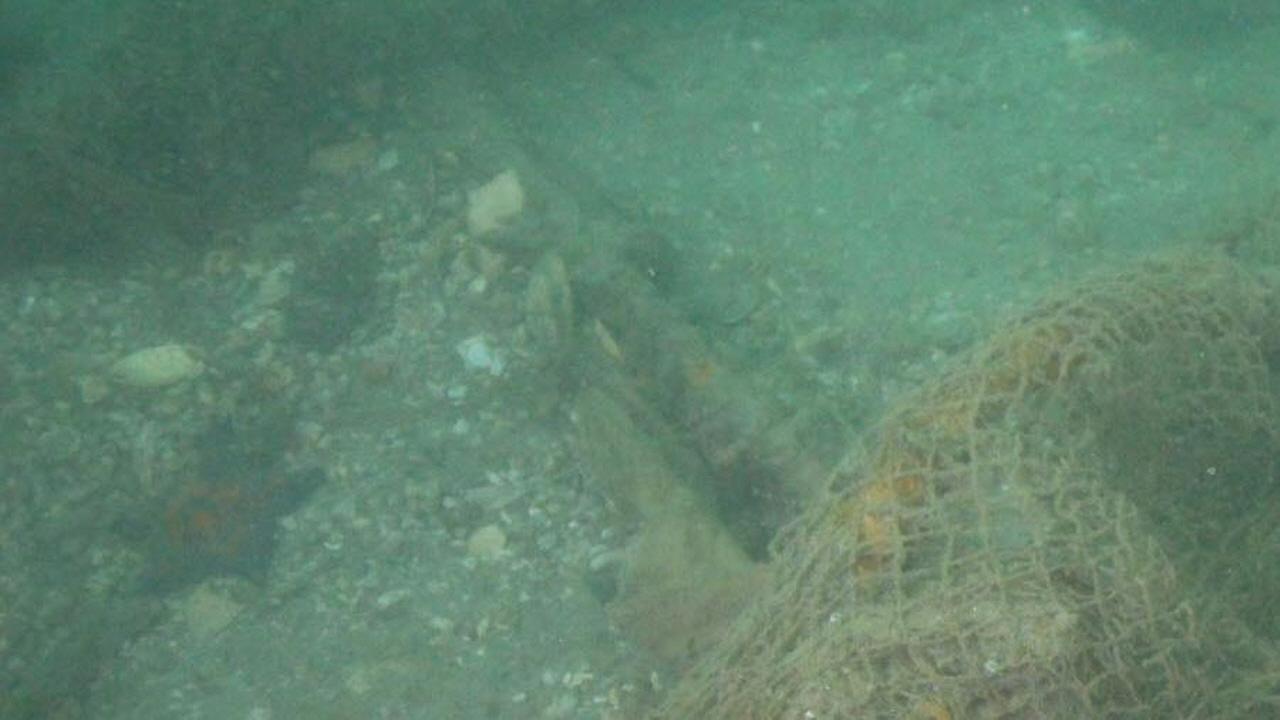fish net: (641, 252, 1280, 720)
